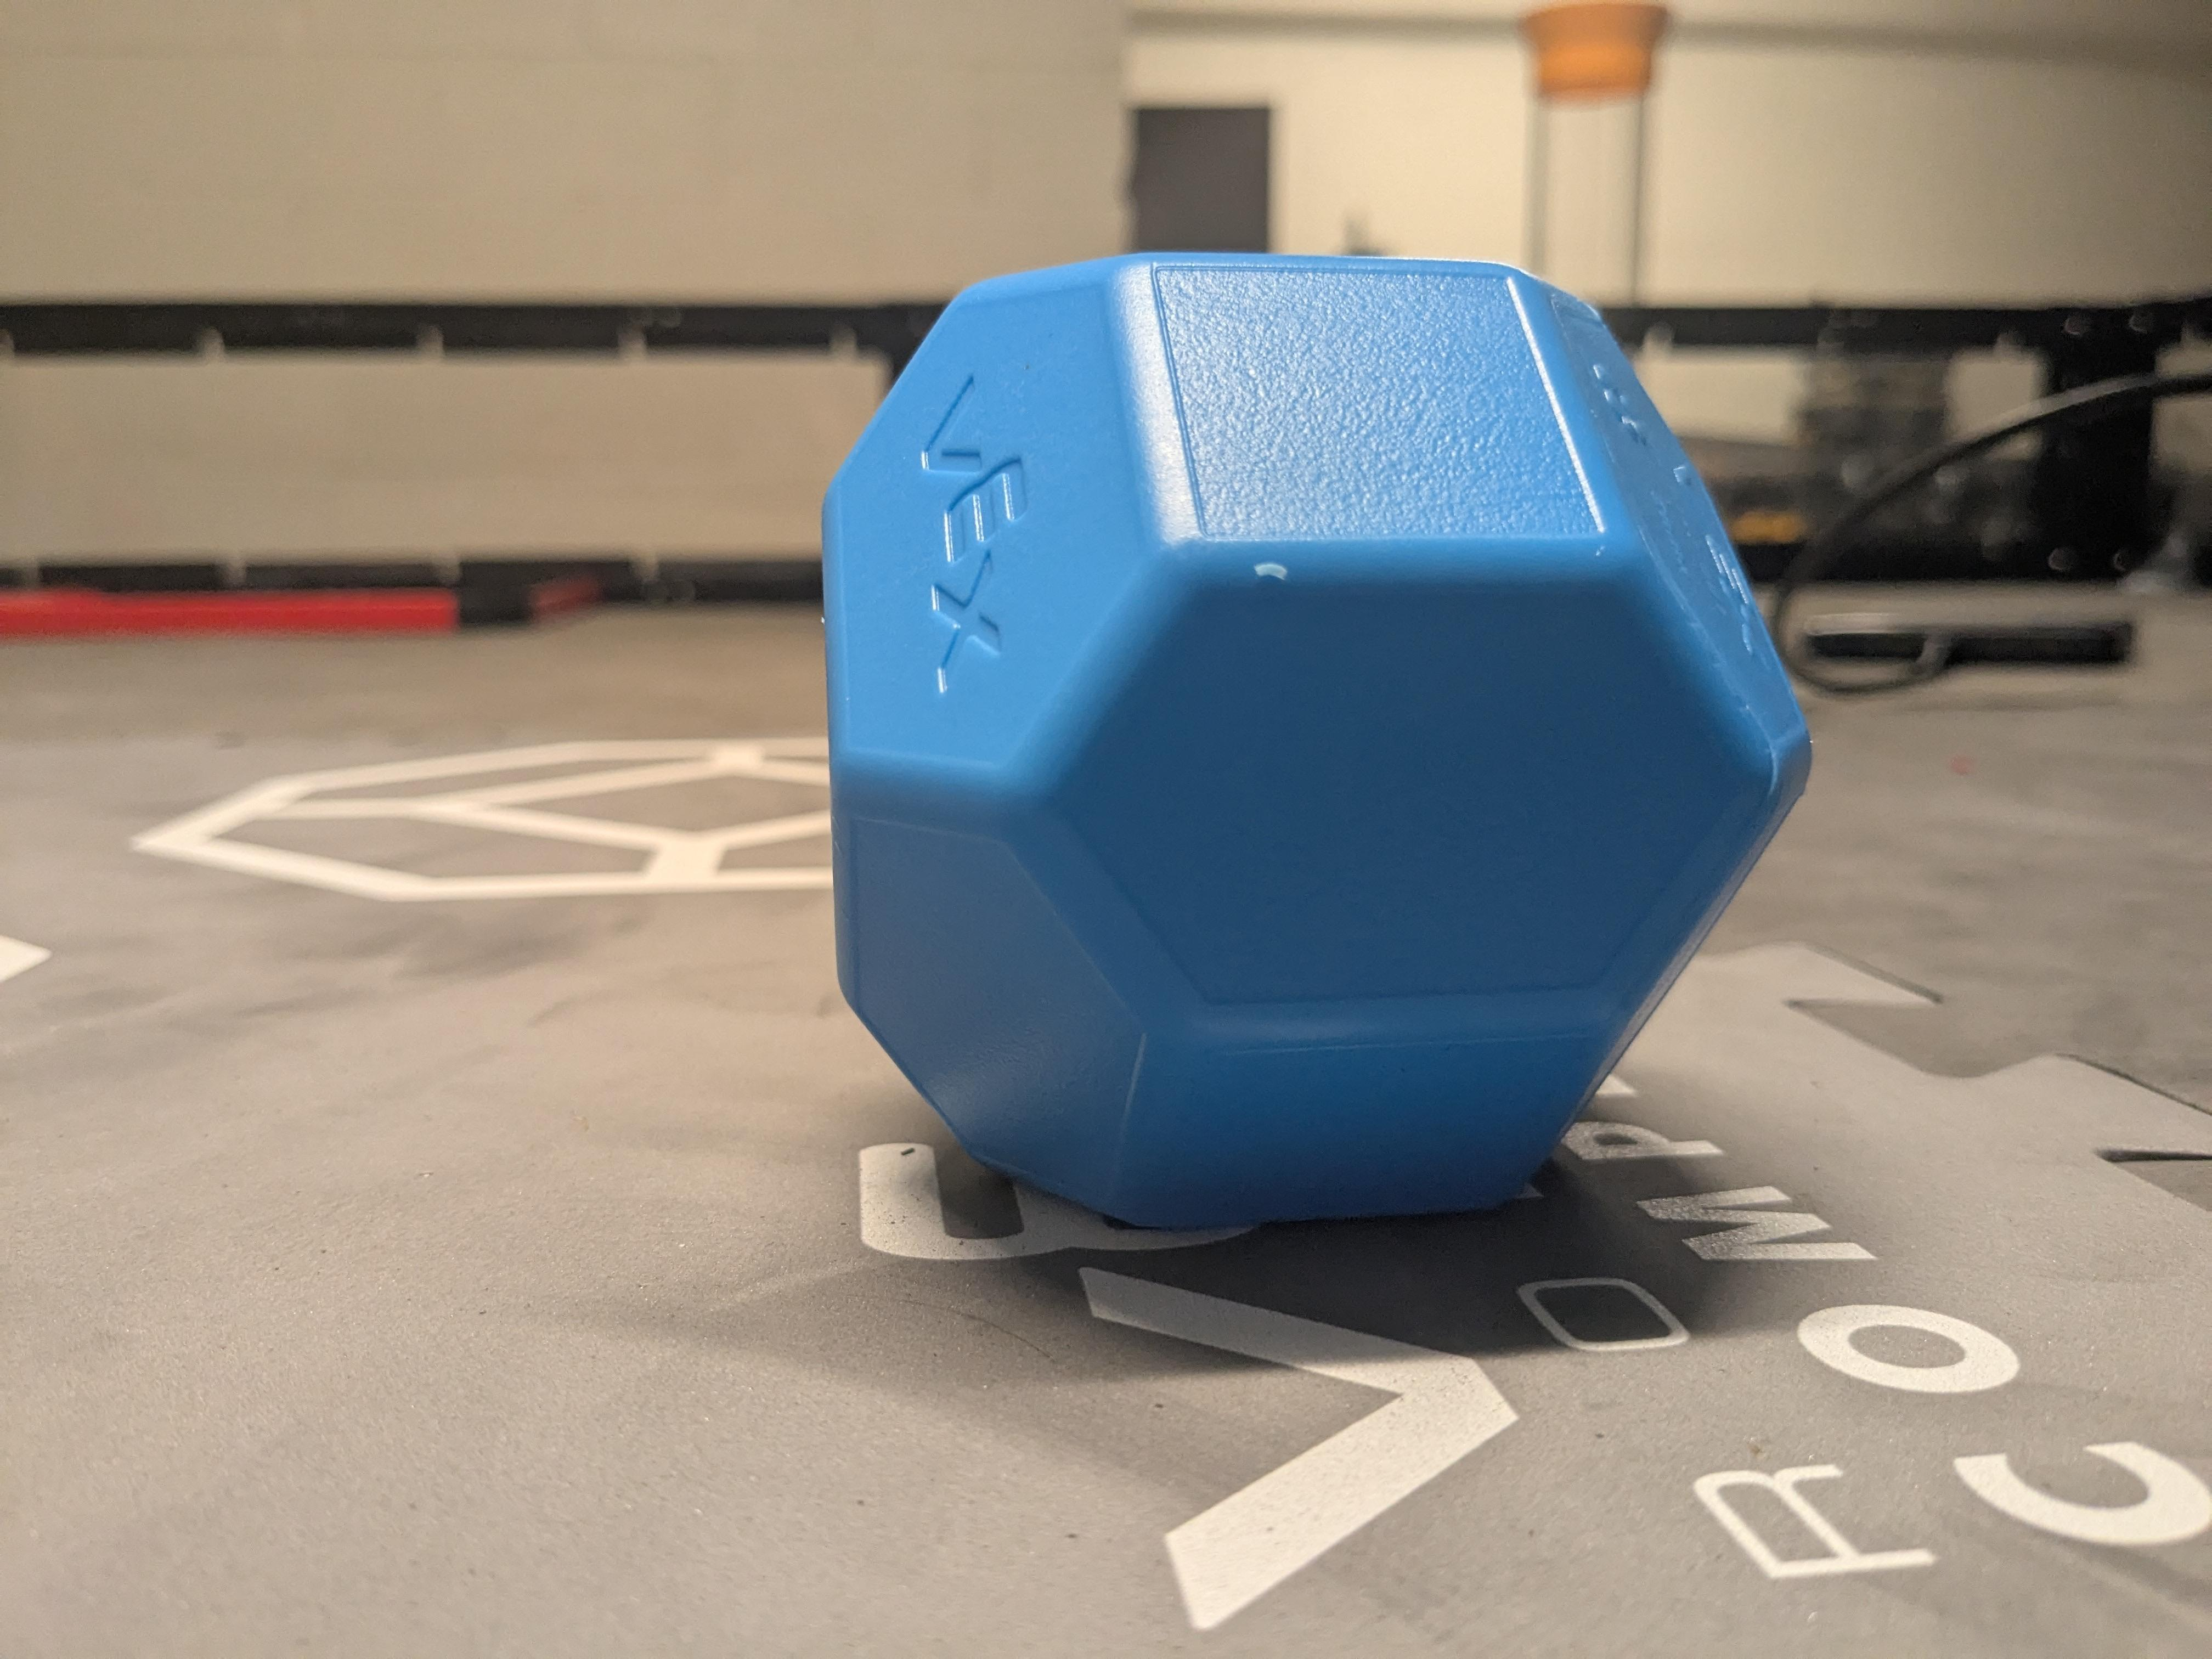Vex-Pieces-BLUE: (819, 258, 1815, 1220)
